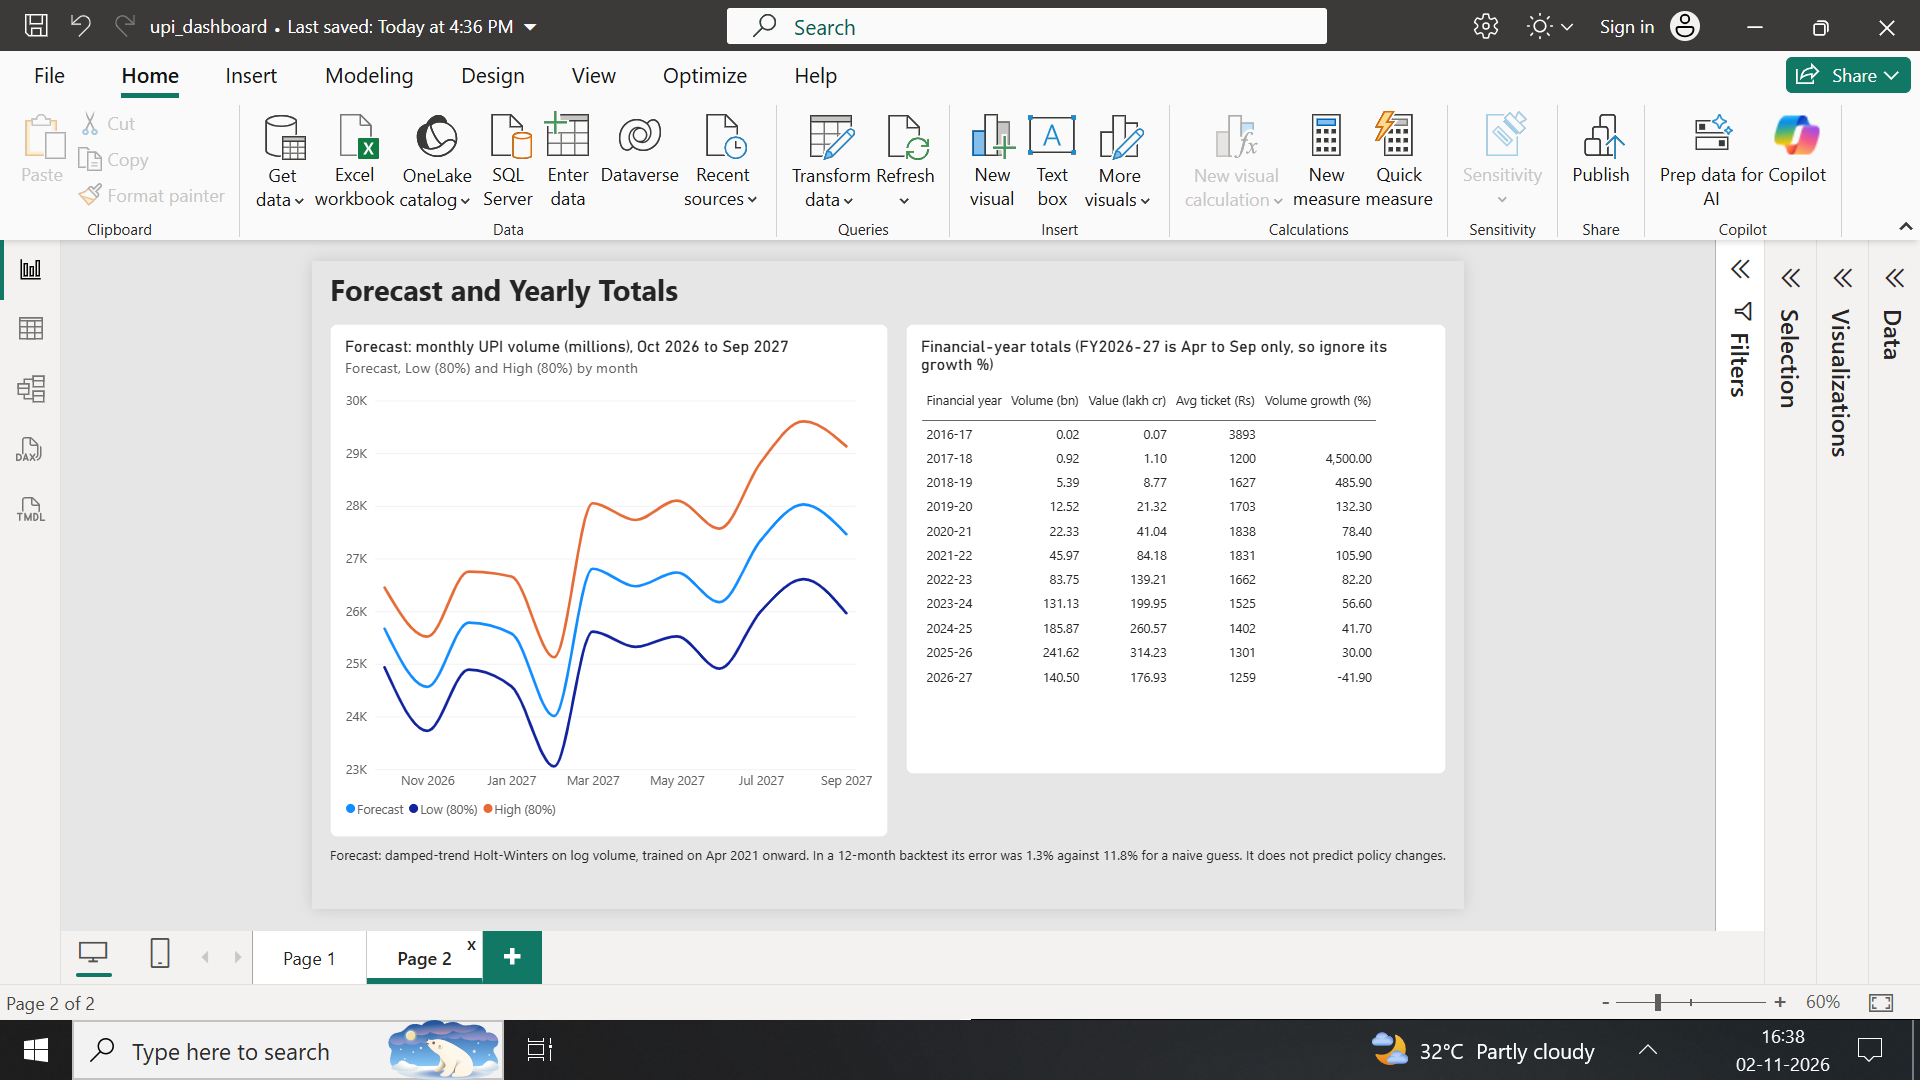

The page's visual inventory and layout, read from the dashboard file:
{"tool":"powerbi","page":{"name":"Page 2","canvas":[1280,720],"ordinal":1},"visuals":[{"type":"lineChart","title":"Forecast: monthly UPI volume (millions), Oct 2026 to Sep 2027","fields":{"Category":["forecast.month"],"Y":["Sum(forecast.forecast_volume_mn)","Sum(forecast.low_80)","Sum(forecast.high_80)"]},"box":[20,70,620,570],"z":0},{"type":"tableEx","title":"Financial-year totals (FY2026-27 is Apr to Sep only, so ignore its growth %)","fields":{"Values":["03_yearly.fin_year","Sum(03_yearly.volume_bn)","Sum(03_yearly.value_lakh_cr)","Sum(03_yearly.avg_ticket_rs)","Sum(03_yearly.volume_growth_pct)"]},"box":[660,70,600,500],"z":1},{"type":"textbox","box":[20,10,1240,50],"z":2},{"type":"textbox","box":[20,650,1240,50],"z":3}]}

Visuals, with their boxes on the page's 1280x720 design canvas (x1, y1, x2, y2). These are canvas units, not pixel positions in the 1920x1080 screenshot, which may show the page scaled, cropped or inside an application window:
"Forecast: monthly UPI volume (millions), Oct 2026 to Sep 2027" lineChart: 20/70/640/640
"Financial-year totals (FY2026-27 is Apr to Sep only, so ignore its growth %)" tableEx: 660/70/1260/570
textbox: 20/10/1260/60
textbox: 20/650/1260/700
